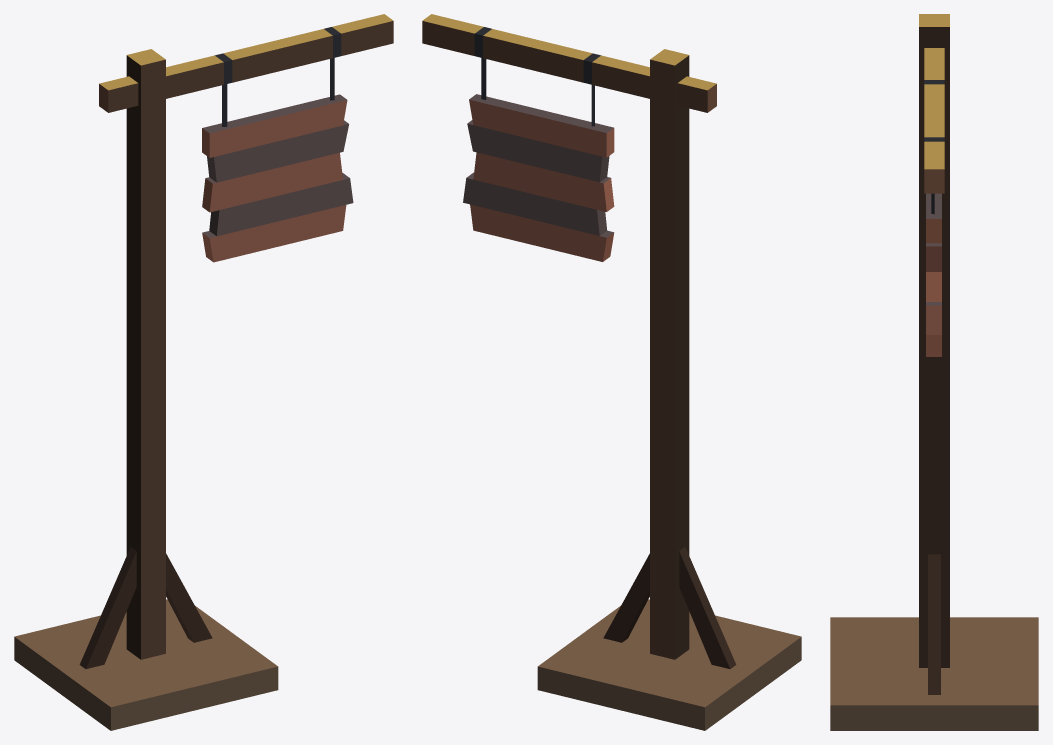
The model's file is TB_D_Prop_Sign_Store_Blank_B.FBX.
3 views of the same model, side by side, from view 1: azimuth 30°, elevation 25°; view 2: azimuth 150°, elevation 25°; view 3: azimuth 270°, elevation 25° (orthographic). The views are drawn at different scales.
Visible parts, largest first — view 1: TB_D_Prop_Sign_Store_Blank_B; view 2: TB_D_Prop_Sign_Store_Blank_B; view 3: TB_D_Prop_Sign_Store_Blank_B.
Part boxes in pixels (x1=…): TB_D_Prop_Sign_Store_Blank_B: x1=14, y1=14, x2=393, y2=730; TB_D_Prop_Sign_Store_Blank_B: x1=422, y1=14, x2=801, y2=730; TB_D_Prop_Sign_Store_Blank_B: x1=830, y1=14, x2=1038, y2=730.
Size of the model in its own units: 1.57 by 2.84 by 0.8046.
